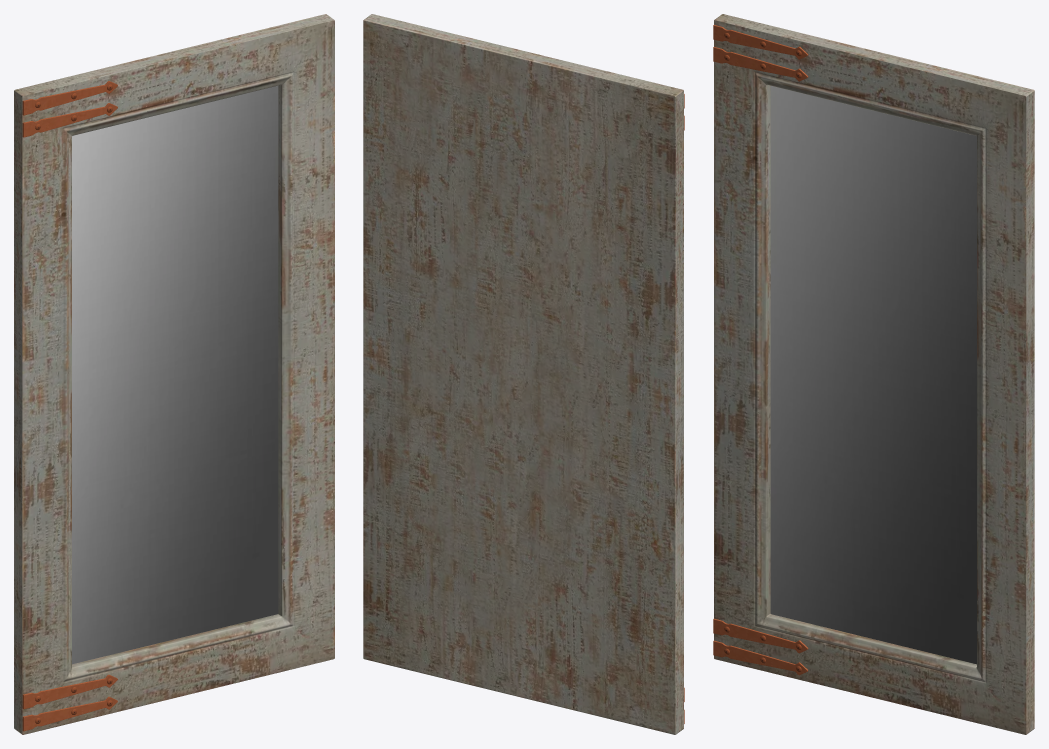
The model's file is abo-B073WGQBPB.glb.
3 views of the same model, side by side, from view 1: azimuth 30°, elevation 25°; view 2: azimuth 150°, elevation 25°; view 3: azimuth 330°, elevation 25° (orthographic).
Size of the model in its own units: 0.472 by 0.922 by 0.027.
1 material, 1 textured.
